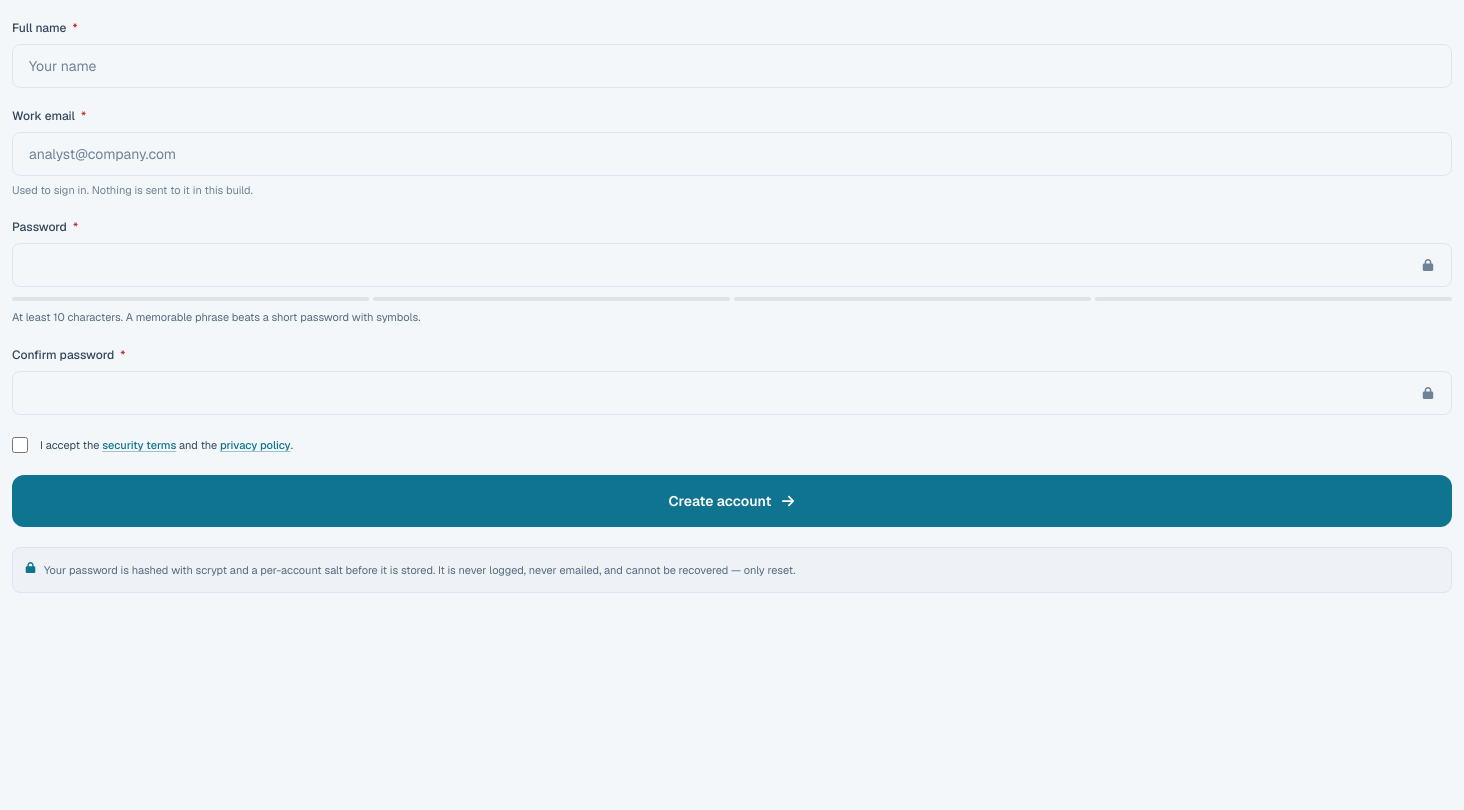
Scenario: SignupForm › flags a mismatched confirmation as the user types
Type "marmalade tractor window" into the password field labelled "Password *".
click(732, 264); type("marmalade tractor window")  # box [12,242,1452,286]
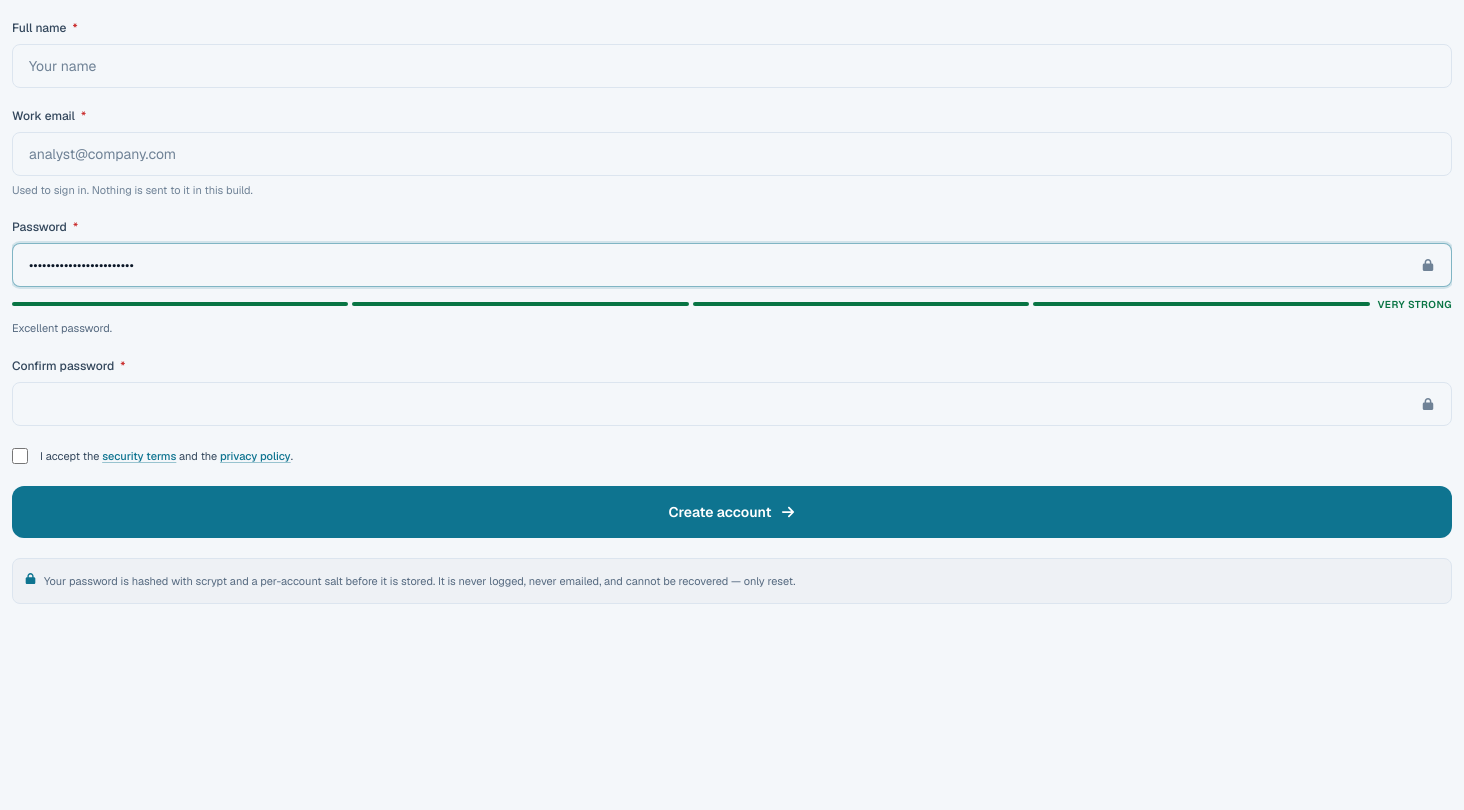
Type "marmalade tractor windo" into the password field labelled "Confirm password *".
click(732, 404); type("marmalade tractor windo")  # box [12,382,1452,426]
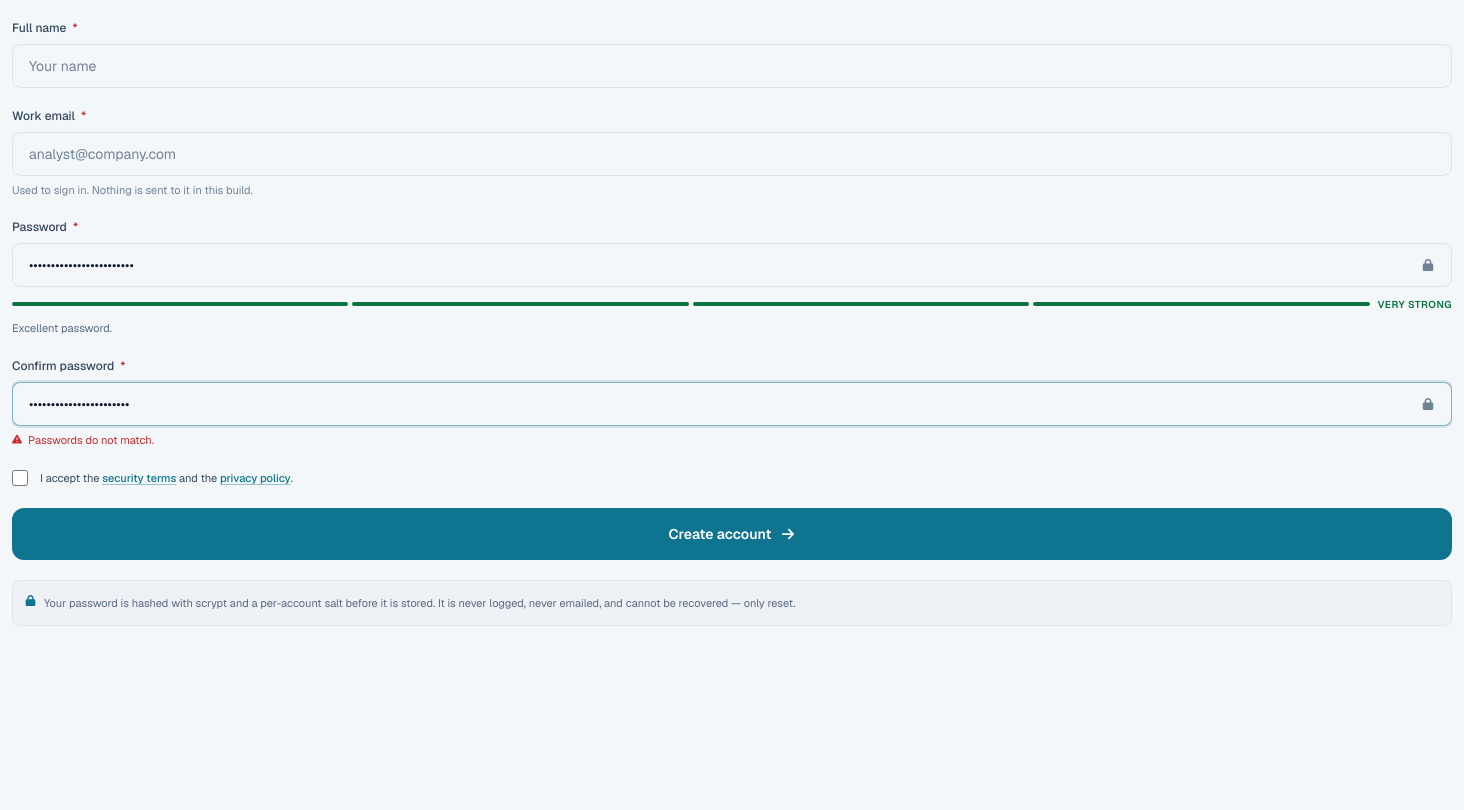
Now the text "Passwords do not match." is shown, box [12,432,154,446]
